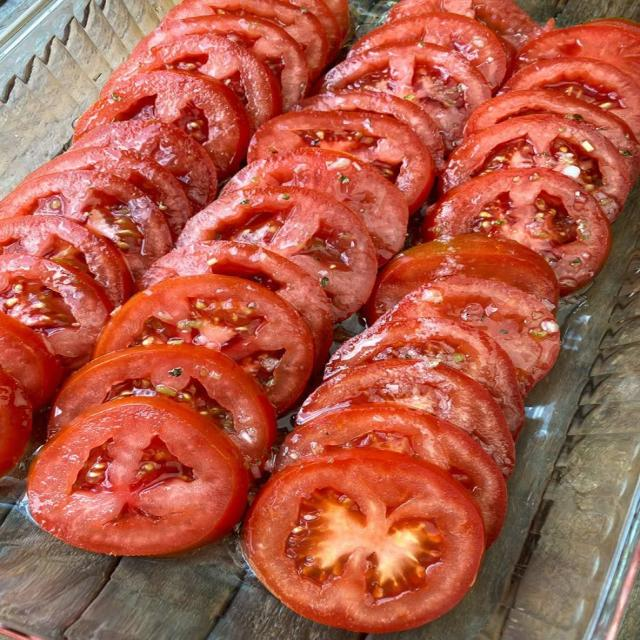sliced tomatoe: (243, 449, 485, 632), (28, 398, 248, 555), (274, 404, 506, 546), (94, 275, 314, 412), (49, 345, 276, 467), (179, 187, 377, 320), (297, 359, 514, 477), (325, 318, 524, 437), (423, 169, 610, 294), (143, 241, 333, 364), (380, 276, 559, 397), (222, 148, 408, 262), (441, 115, 630, 221), (0, 170, 172, 282), (248, 111, 434, 211), (322, 42, 491, 152), (74, 71, 250, 175), (102, 34, 281, 130), (366, 235, 559, 324), (128, 14, 310, 108), (466, 89, 639, 182), (27, 147, 193, 236), (0, 254, 112, 370), (73, 121, 217, 210), (164, 0, 328, 78), (349, 12, 506, 89), (294, 90, 444, 170), (0, 216, 133, 306), (502, 57, 639, 136), (388, 0, 554, 50), (517, 23, 639, 76), (0, 314, 61, 411), (0, 368, 32, 477), (287, 0, 343, 61), (325, 0, 350, 39), (586, 18, 639, 35)
